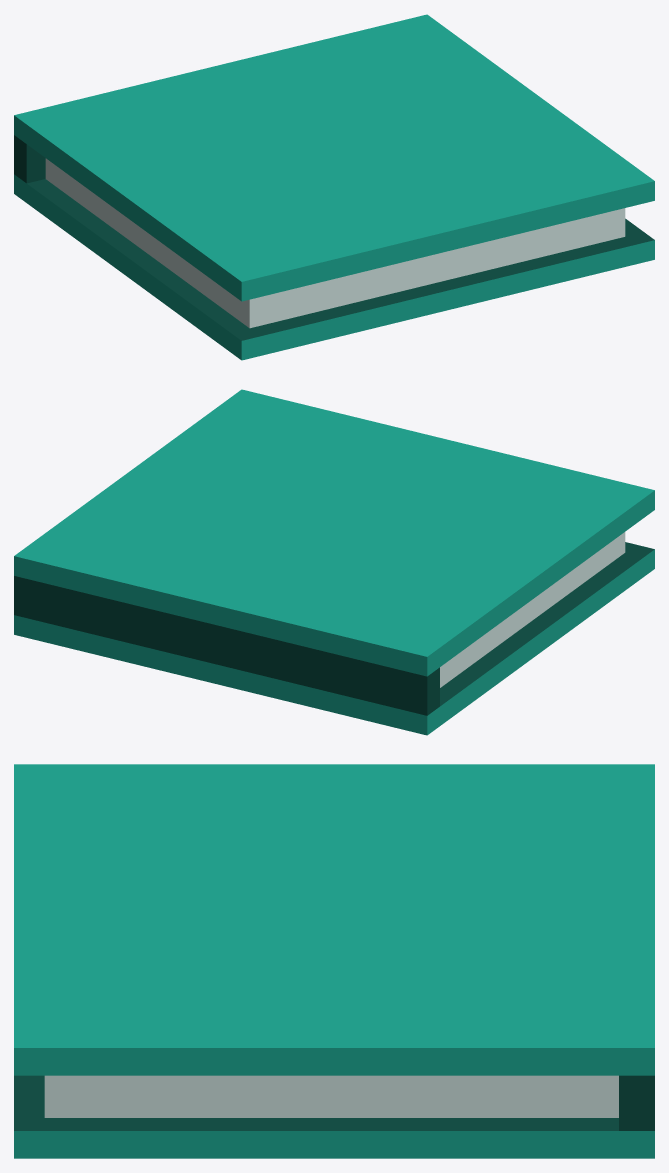
Rendered from book_3.fbx.
3 views of the same model, one above another, from view 1: azimuth 30°, elevation 25°; view 2: azimuth 150°, elevation 25°; view 3: azimuth 270°, elevation 25° (orthographic). The views are drawn at different scales.
Parts seen in each view (by area): view 1: cuboid; view 2: cuboid; view 3: cuboid.
Part boxes in pixels (x1,y1,x2,y2): cuboid: (14,14,654,360); cuboid: (14,389,654,735); cuboid: (14,764,654,1158).
Bounding box in the file's own units: 13.75 × 2.5 × 13.12.
1 material, 1 textured.
